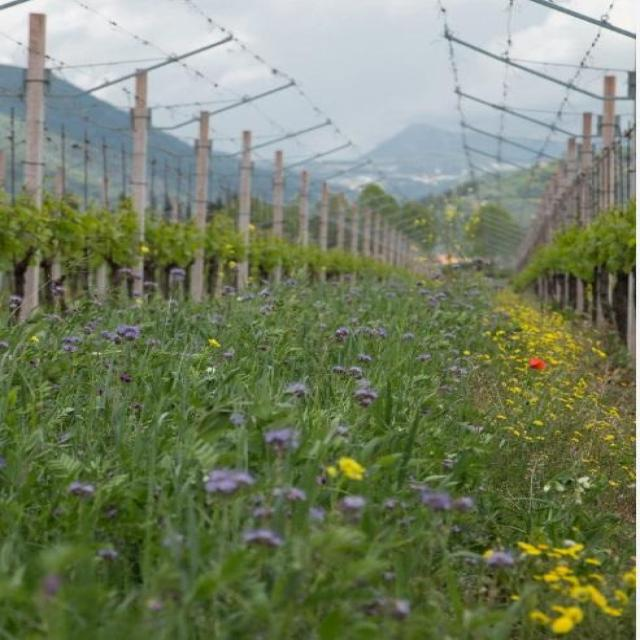row: (0, 271, 640, 640)
